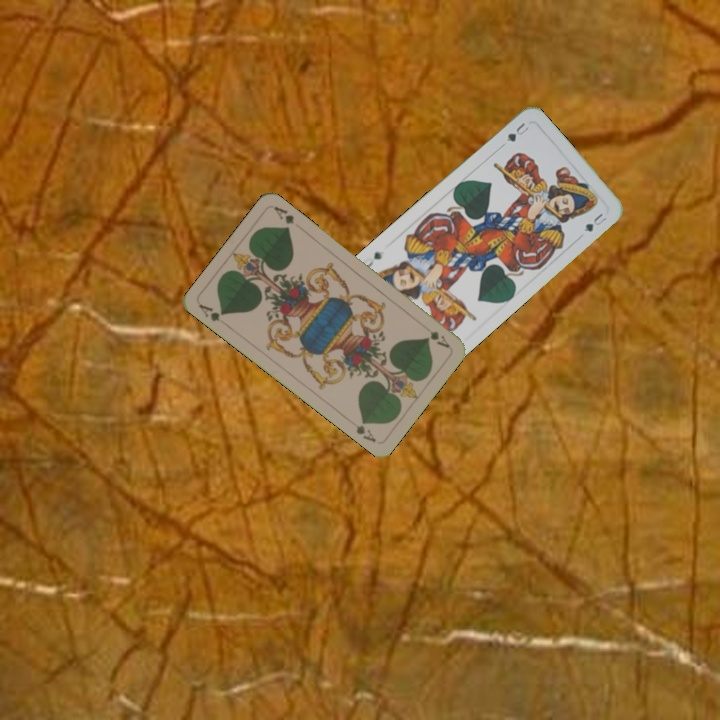GA: (418, 320, 452, 351), (195, 300, 227, 324)
GU: (502, 118, 533, 144)
